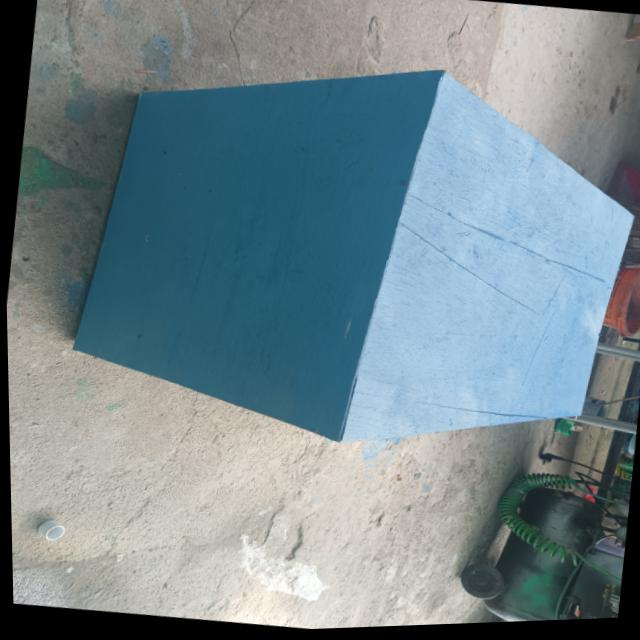blue_box: (90, 42, 640, 477)
